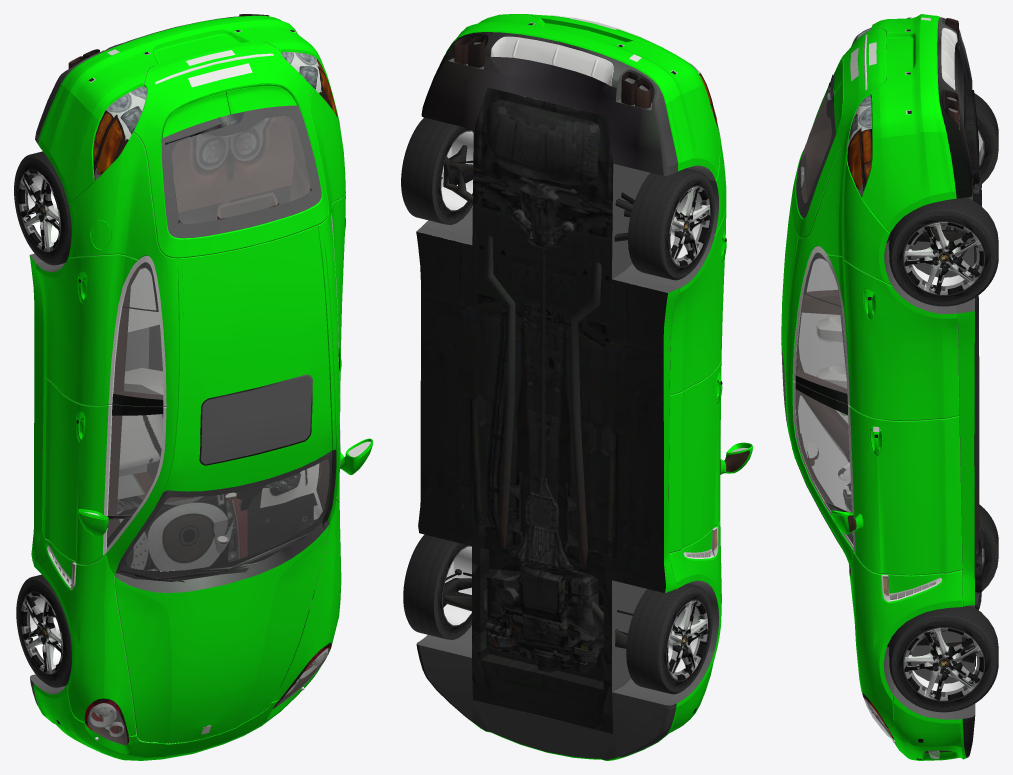
3 views of the same model, side by side, from view 1: azimuth 30°, elevation 25°; view 2: azimuth 150°, elevation 25°; view 3: azimuth 270°, elevation 25° (orthographic). The views are drawn at different scales.
Visible parts, largest first — view 1: object0, Object01, Object02; view 2: object0, Object01, Object02; view 3: object0, Object01, Object02.
Boxes of the visible parts, x1,y1,x2,y2 form: object0: (27, 14, 372, 760); Object01: (14, 151, 290, 687); Object02: (18, 170, 62, 673); object0: (416, 14, 752, 760); Object01: (401, 117, 714, 694); Object02: (441, 177, 710, 680); object0: (781, 14, 983, 760); Object01: (889, 93, 998, 712); Object02: (904, 222, 983, 700).
Size of the model in its own units: 27.29 by 63.87 by 18.18.
Materials: 11 (7 with a texture image).
